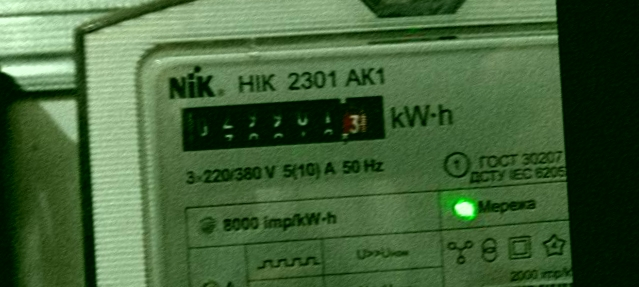0: (294, 103, 310, 129), (194, 116, 211, 138)
1: (319, 103, 333, 127)
2: (218, 112, 236, 132)
3: (347, 112, 361, 135)
9: (269, 107, 285, 130), (244, 108, 258, 131)
screen: (167, 85, 397, 163)
